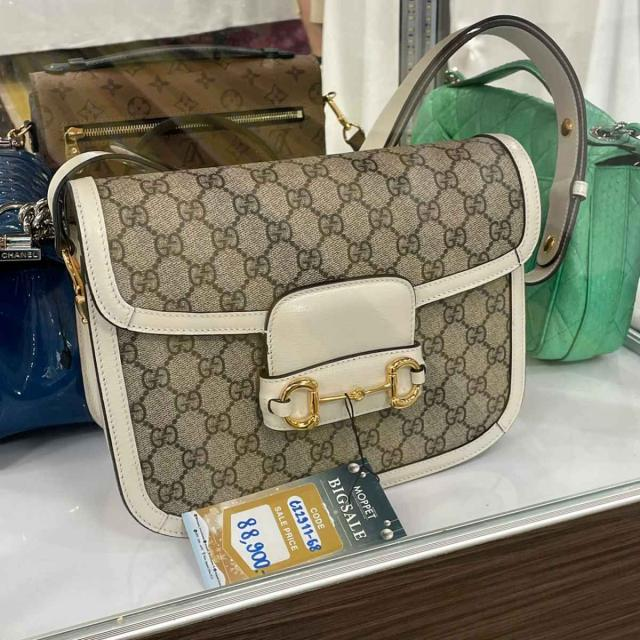handbag: (36, 118, 564, 528)
